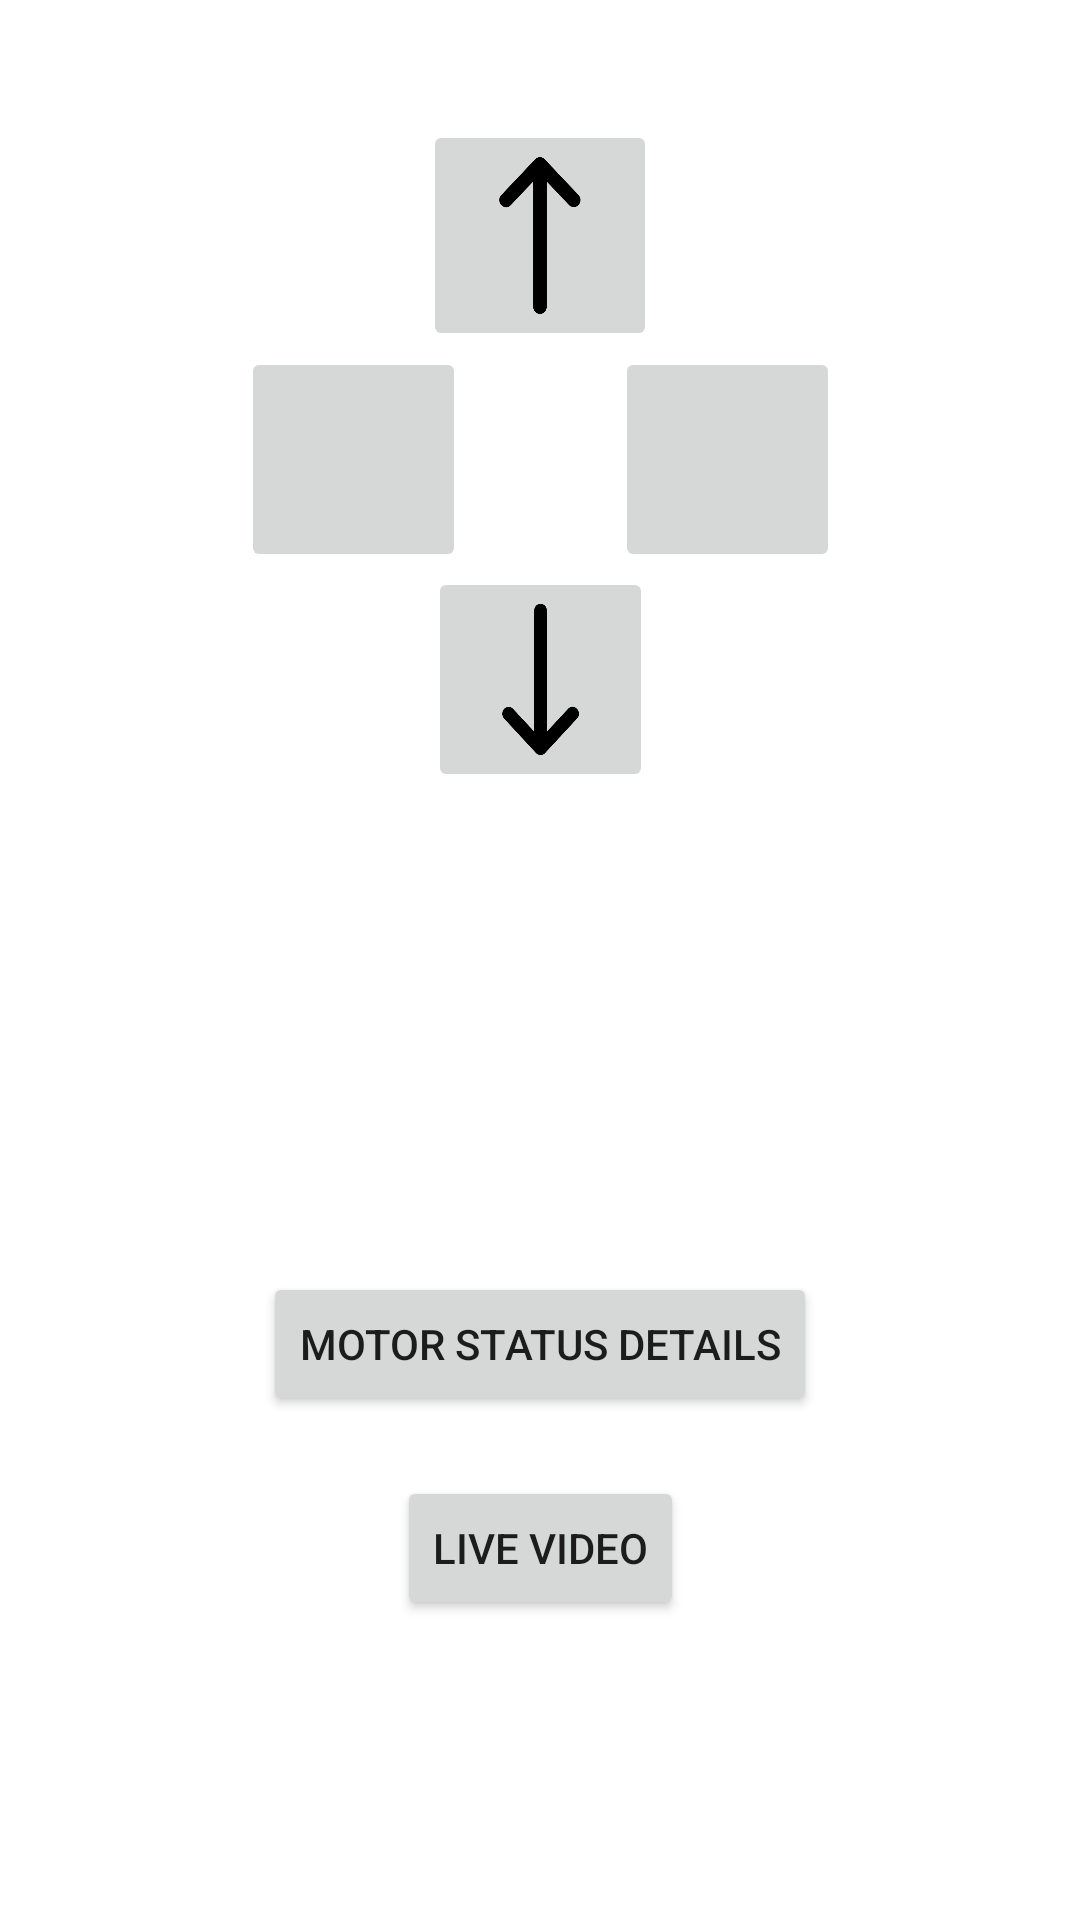

Locate icon controls on the screen. Image size 1080px×1920px, boxes as {"x1": x1, "y1": y1, "x2": x2, "y2": y2}.
down arrow: {"x1": 440, "y1": 585, "x2": 641, "y2": 774}
up arrow: {"x1": 435, "y1": 138, "x2": 645, "y2": 333}
